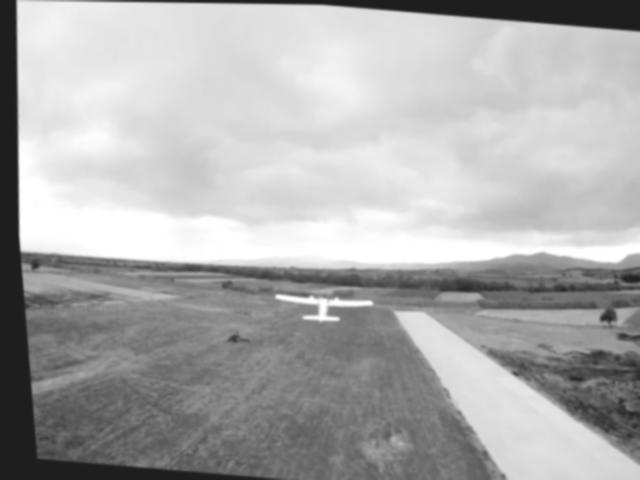hedef: (255, 273, 376, 335)
